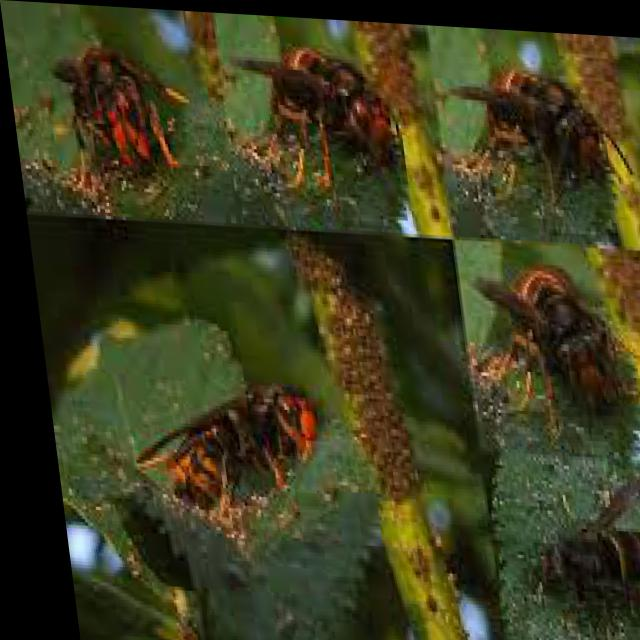Vespa Velutina: (113, 360, 328, 540), (437, 44, 637, 236), (453, 246, 639, 443), (222, 32, 412, 194), (486, 445, 639, 630), (49, 31, 196, 182)
